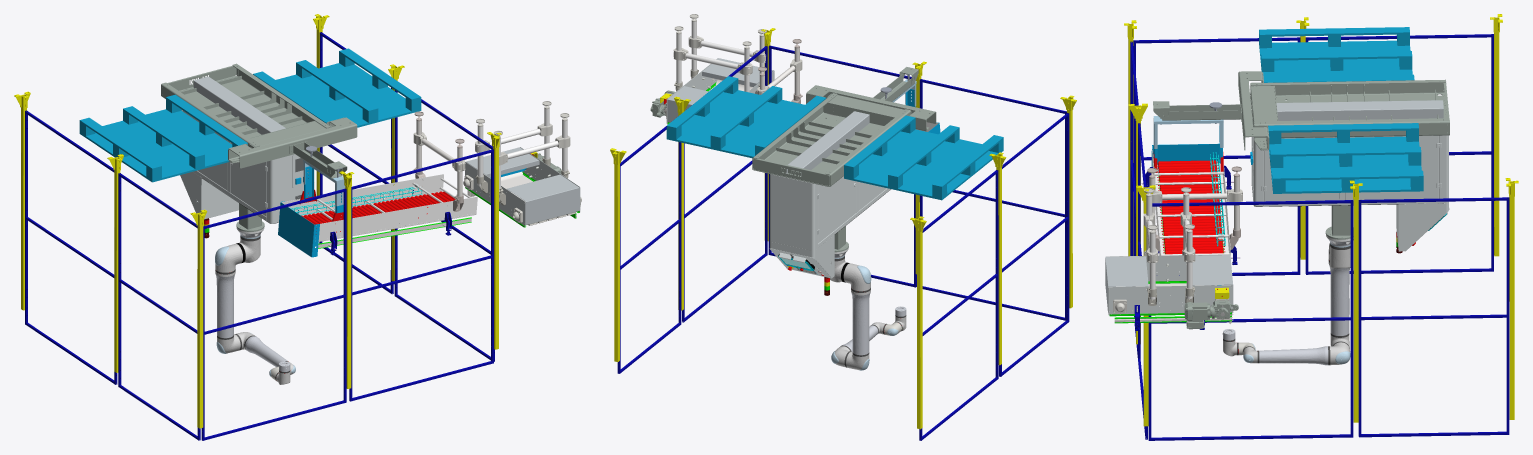
File: 05-base-esteira-90-direita-convertedora-gradil.glb
The picture shows the model from 3 angles, left to right: view 1: azimuth 30°, elevation 25°; view 2: azimuth 150°, elevation 25°; view 3: azimuth 270°, elevation 25°; orthographic projection. The views are drawn at different scales.
Visible parts, largest first — view 1: KAPTA_AR_Z_UP_TO_Y_UP; view 2: KAPTA_AR_Z_UP_TO_Y_UP; view 3: KAPTA_AR_Z_UP_TO_Y_UP.
Boxes of the visible parts, box(x1,y1,x2,y2) form: KAPTA_AR_Z_UP_TO_Y_UP: box(14, 14, 581, 440); KAPTA_AR_Z_UP_TO_Y_UP: box(610, 14, 1076, 440); KAPTA_AR_Z_UP_TO_Y_UP: box(1105, 14, 1518, 440).
Bounding box in the file's own units: 4.14 × 2.33 × 3.3.
